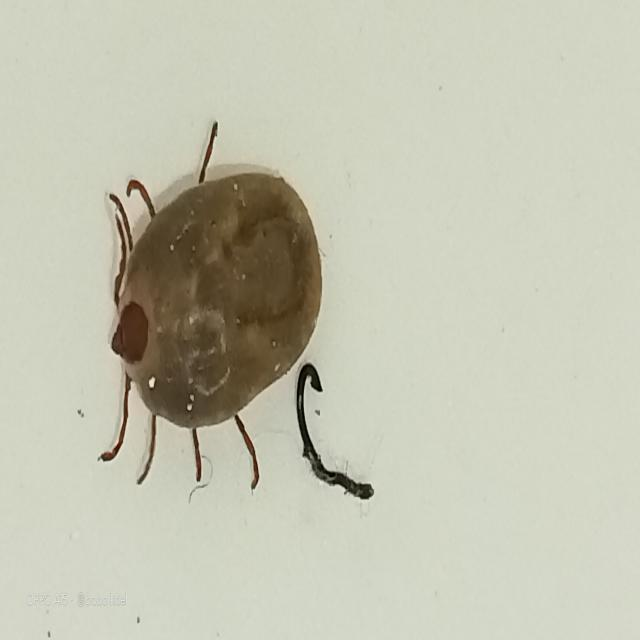Rhipicephalus Sanguineus-F-Fed: (98, 121, 327, 492)
